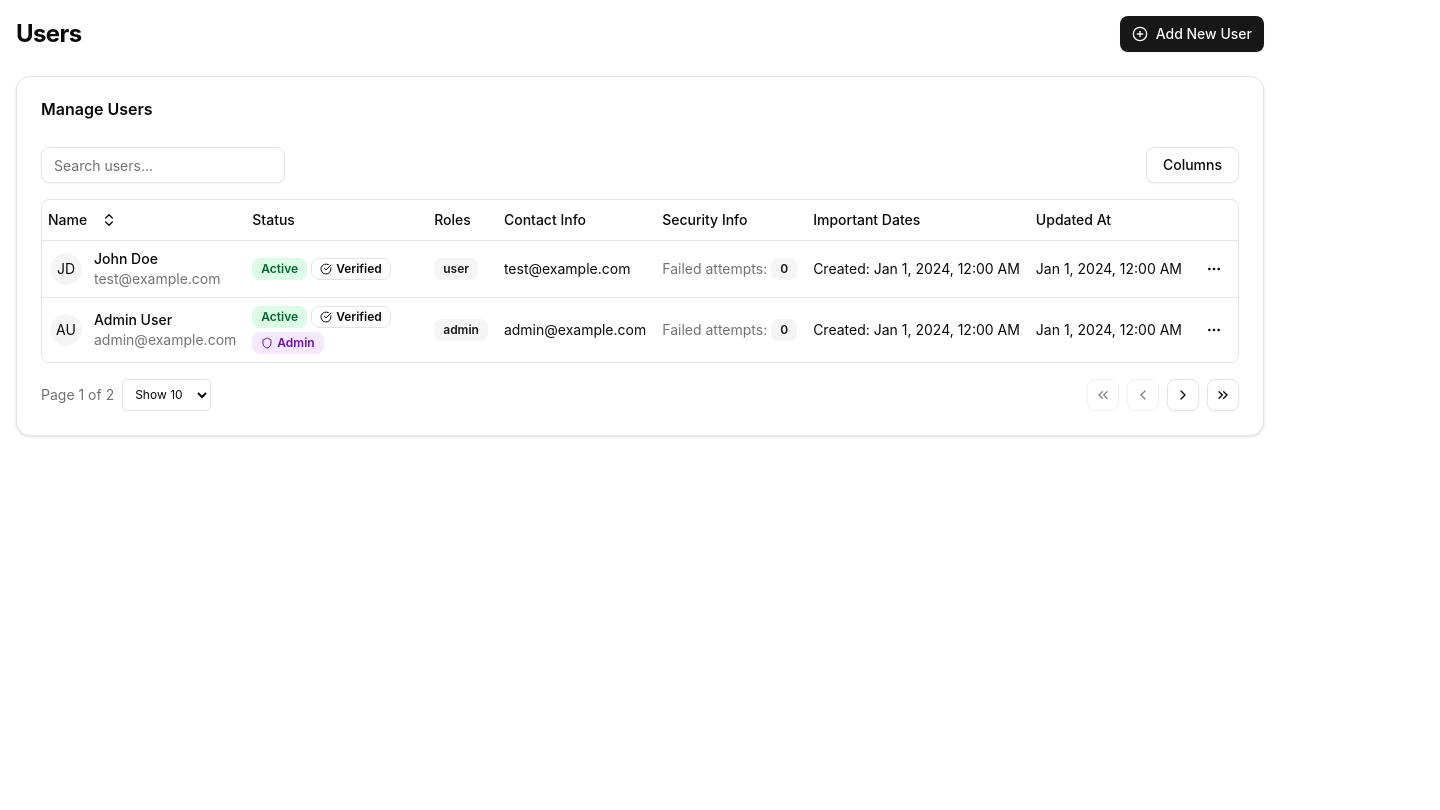
UsersList Component › User Operations (CRUD) › closes delete dialog when cancel is clicked
Click the 1st button named "open menu": (1214, 268) [1198,252,1230,284]
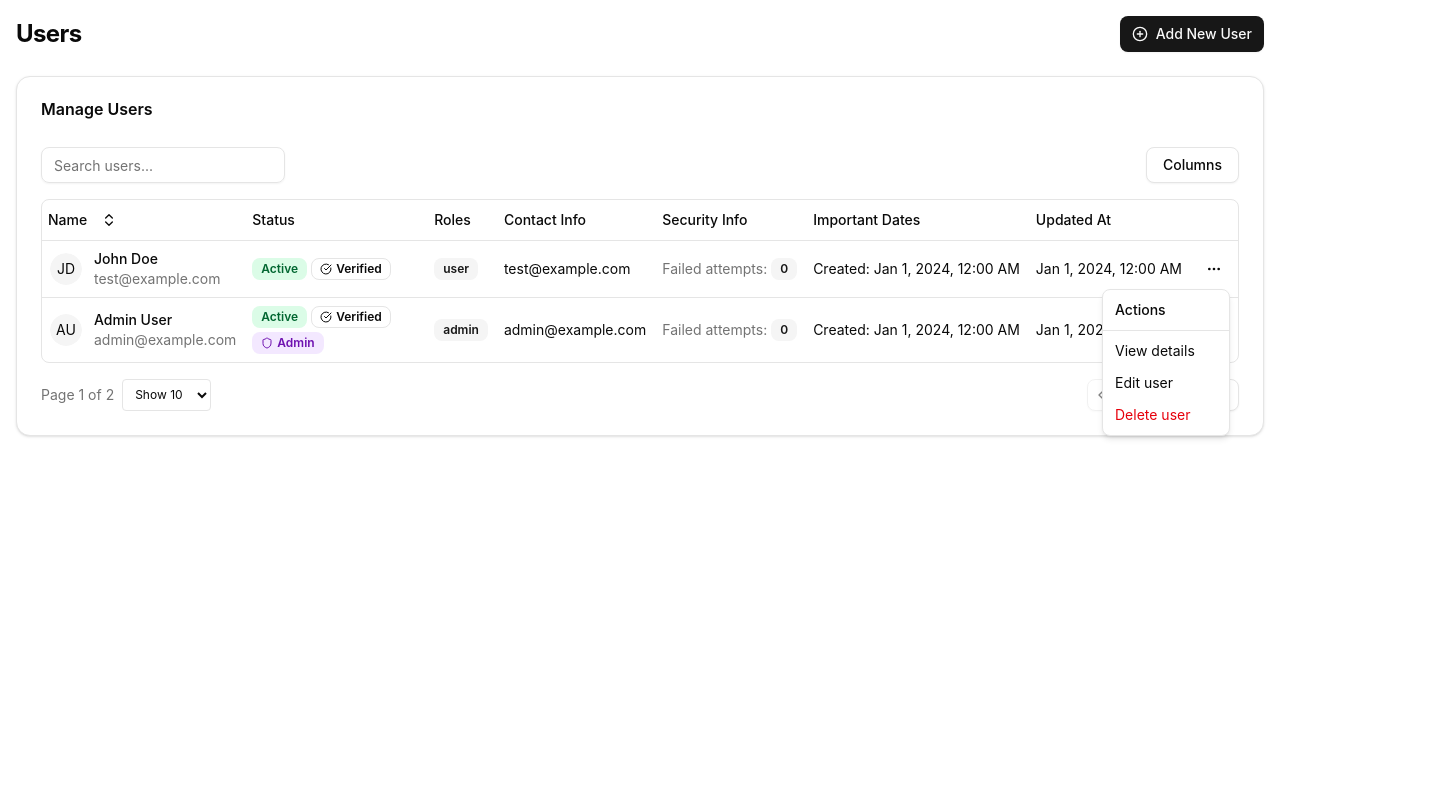
Result: the menu item with test id "delete-user-button" is shown
Click the menu item with test id "delete-user-button": (1153, 414) [1115,406,1190,423]
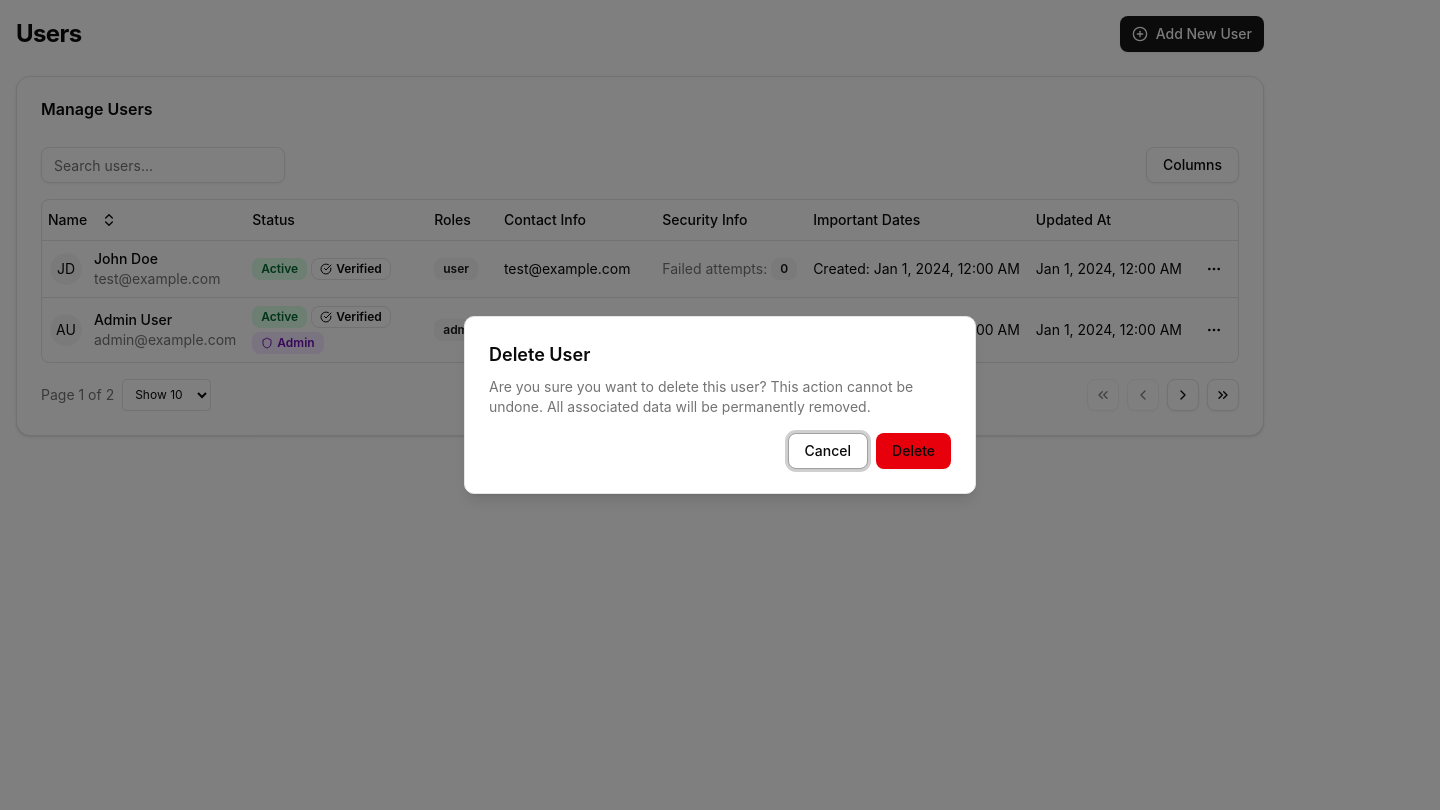
Result: the button "Cancel" is shown
Click the button "Cancel": (828, 451) [788,433,868,469]
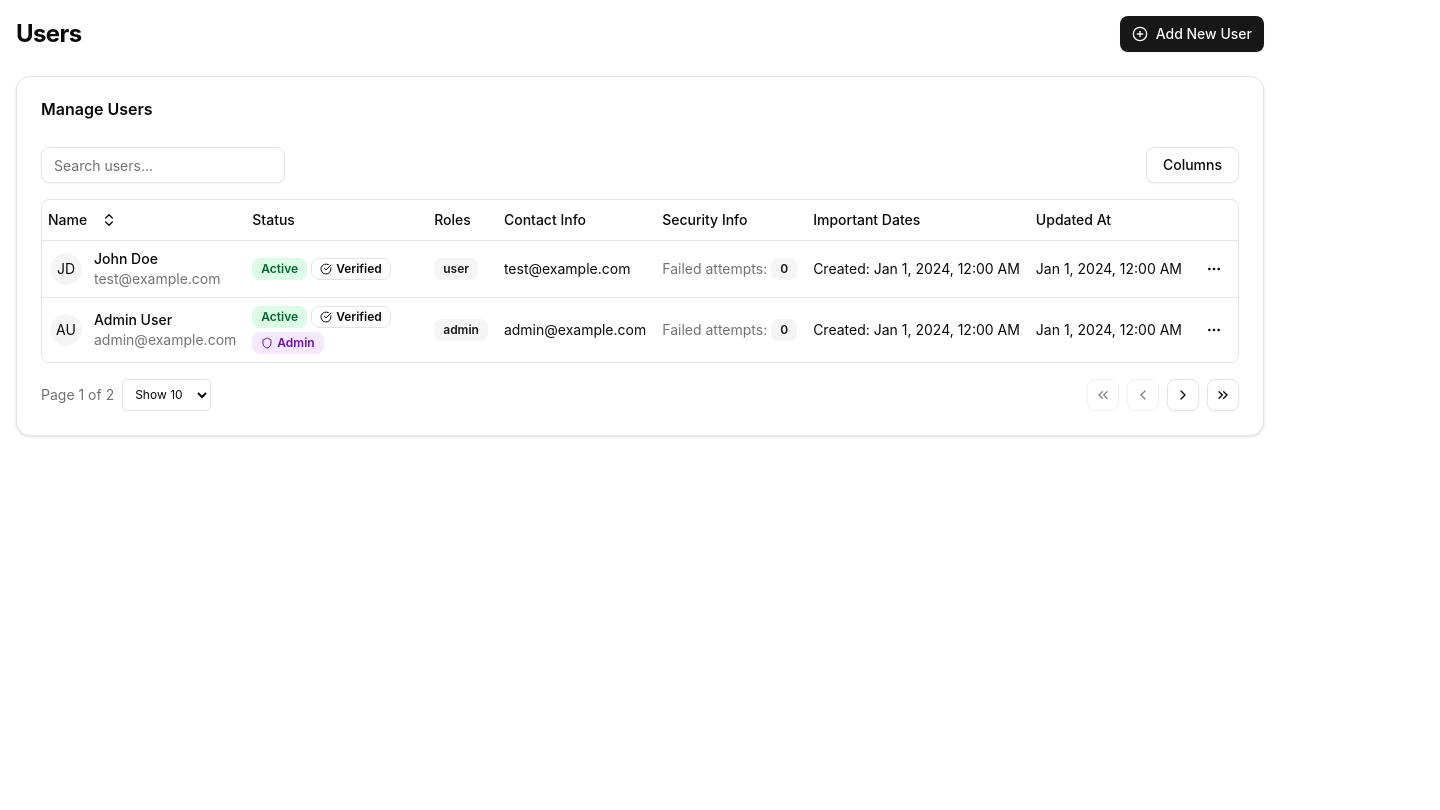
Result: the heading "Delete User" is gone
